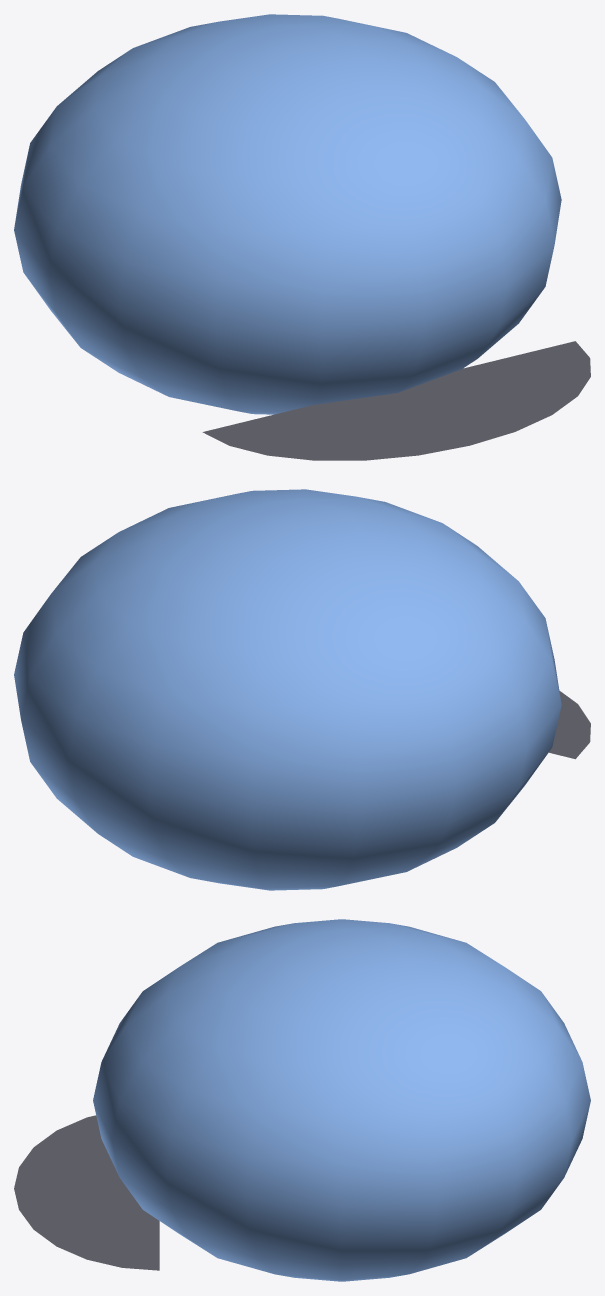
File: hat_cap.glb
The picture shows the model from 3 angles, top to bottom: view 1: azimuth 30°, elevation 25°; view 2: azimuth 150°, elevation 25°; view 3: azimuth 270°, elevation 25°; orthographic projection. The views are drawn at different scales.
Parts seen in each view (by area): view 1: HatCap; view 2: HatCap; view 3: HatCap.
Boxes of the visible parts, x1,y1,x2,y2 form: HatCap: [14, 14, 590, 460]; HatCap: [14, 489, 590, 890]; HatCap: [14, 919, 590, 1281].
Size of the model in its own units: 0.41 by 0.27 by 0.475.
